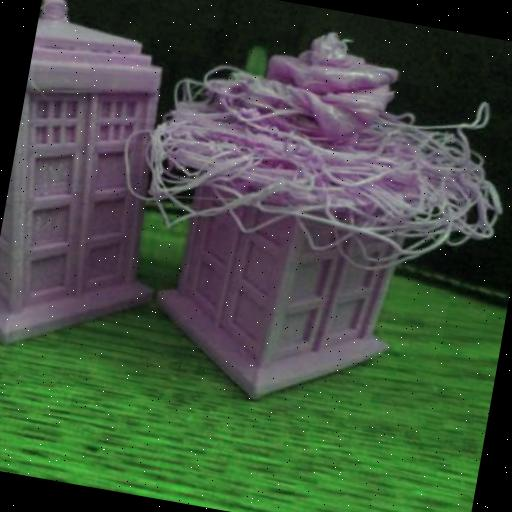spaghetti: (104, 0, 512, 297)
